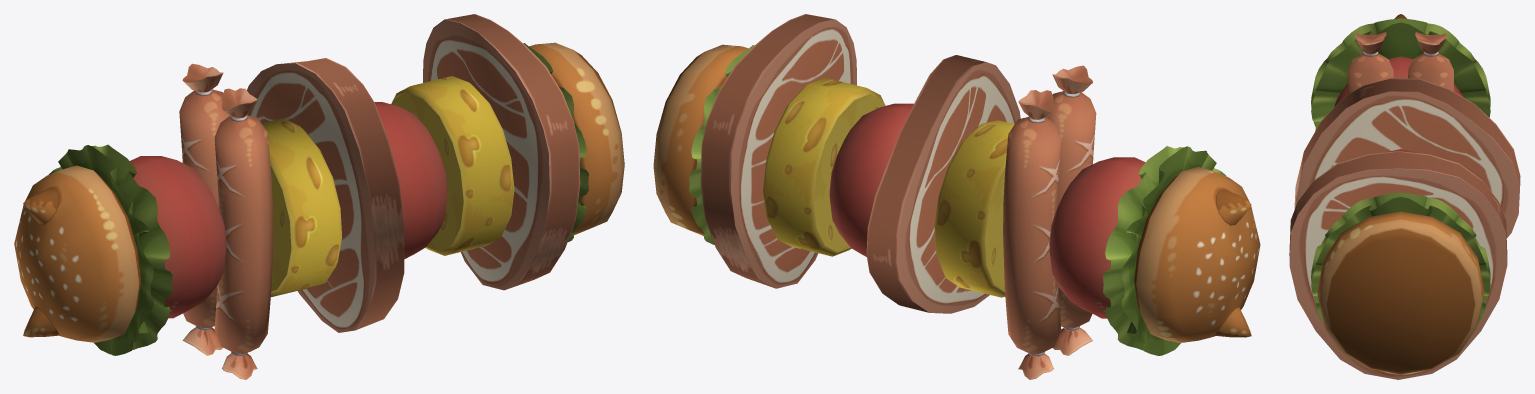
The model's file is Hamburger.glb.
3 views of the same model, side by side, from view 1: azimuth 30°, elevation 25°; view 2: azimuth 150°, elevation 25°; view 3: azimuth 270°, elevation 25° (orthographic). The views are drawn at different scales.
Visible parts, largest first — view 1: SkillObj_Varesa_Hamburger_LOD0; view 2: SkillObj_Varesa_Hamburger_LOD0; view 3: SkillObj_Varesa_Hamburger_LOD0.
Part boxes in pixels (x1=…): SkillObj_Varesa_Hamburger_LOD0: x1=14, y1=14, x2=624, y2=379; SkillObj_Varesa_Hamburger_LOD0: x1=653, y1=14, x2=1260, y2=379; SkillObj_Varesa_Hamburger_LOD0: x1=1289, y1=14, x2=1520, y2=379.
Size of the model in its own units: 0.4633 by 0.2183 by 0.1909.
Materials: 1 (1 with a texture image).
